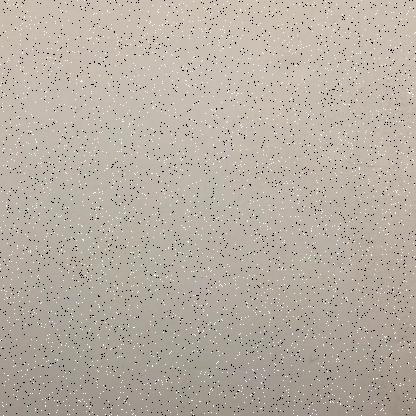Nocrack: (11, 14, 409, 412)
